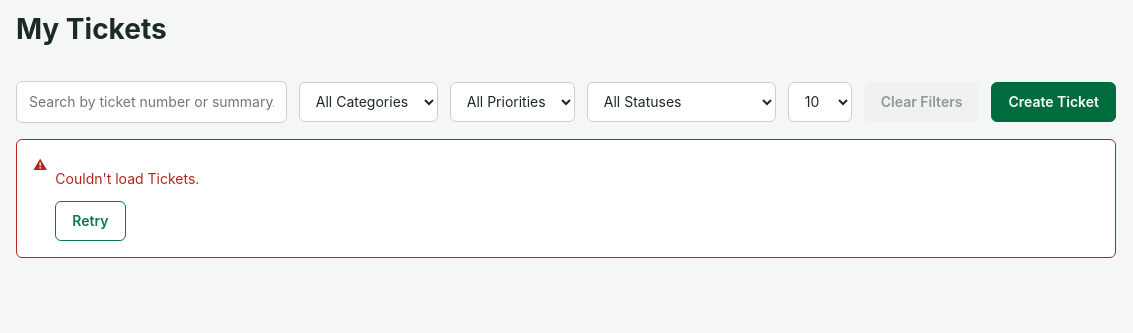
Scenario: MyTickets › shows a failure banner with a Retry action that re-runs the fetch
Expected: the text "Couldn't load Tickets." is shown, [55, 170, 199, 186]
Click the button "Retry" at (90, 220), box [55, 200, 126, 240]
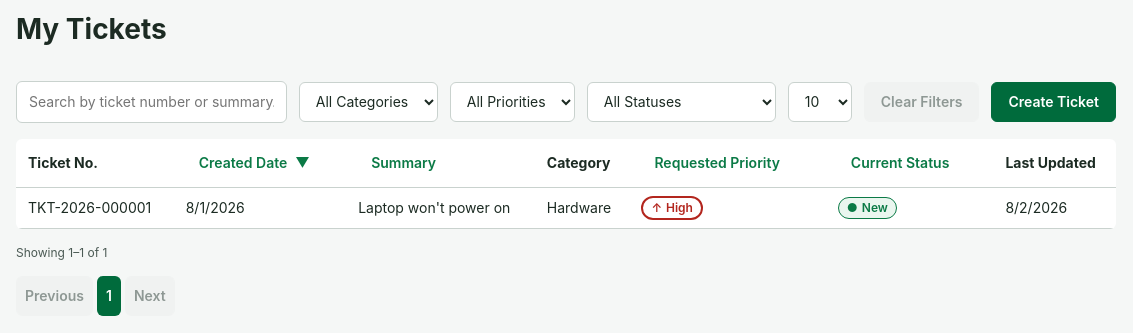
Result: the text "TKT-2026-000001" is shown at [16, 187, 174, 229]
